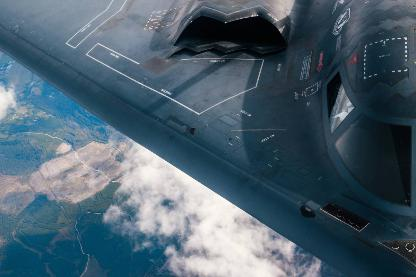B1: (0, 0, 416, 275)
